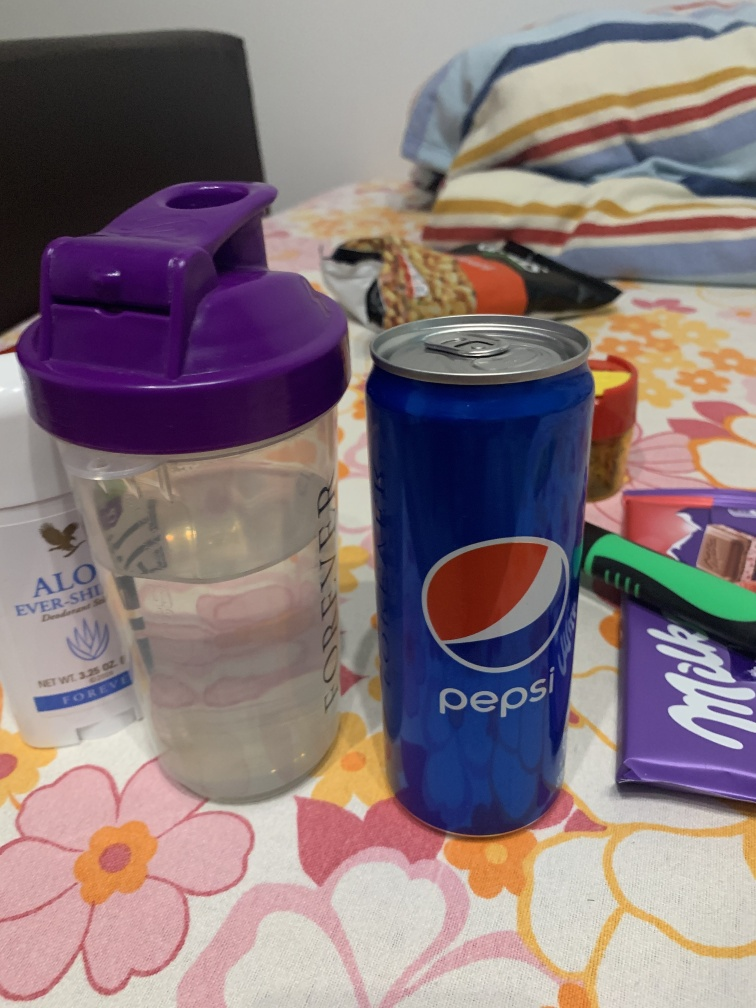milka: (614, 484, 756, 809)
peanuts: (306, 229, 622, 356)
pepsi: (354, 314, 610, 844)
